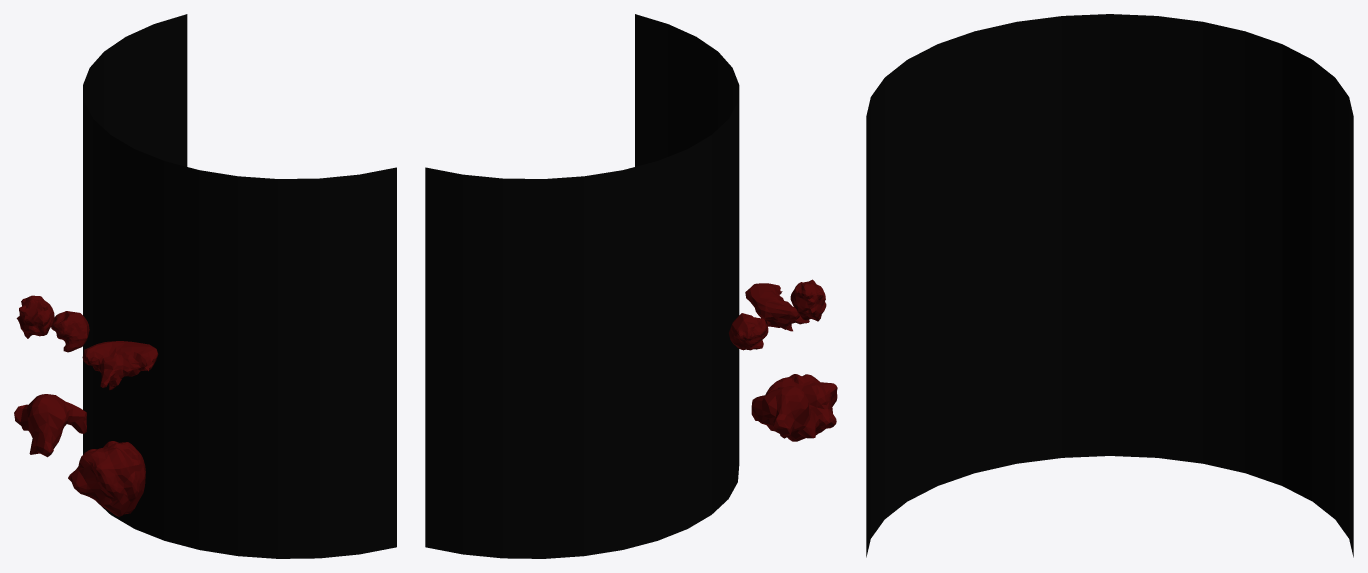
The model's file is Inodoro-Hole.fbx.
3 views of the same model, side by side, from view 1: azimuth 30°, elevation 25°; view 2: azimuth 150°, elevation 25°; view 3: azimuth 270°, elevation 25° (orthographic). The views are drawn at different scales.
Visible parts, largest first — view 1: Tube, Shit3, Shit4, Shit1, Shit2, Shit5; view 2: Tube, Shit4, Shit3, Shit1, Shit5, Shit2; view 3: Tube.
Boxes of the visible parts, x1,y1,x2,y2 form: Tube: (83,14,396,558); Shit3: (68,441,145,516); Shit4: (14,394,86,457); Shit1: (82,341,158,390); Shit2: (16,295,54,338); Shit5: (51,311,89,352); Tube: (425,14,739,558); Shit4: (751,386,819,438); Shit3: (765,374,837,441); Shit1: (745,283,809,331); Shit5: (729,313,768,350); Shit2: (790,279,826,321); Tube: (866,14,1353,557).
Bounding box in the file's own units: 784 × 1007 × 1007.
